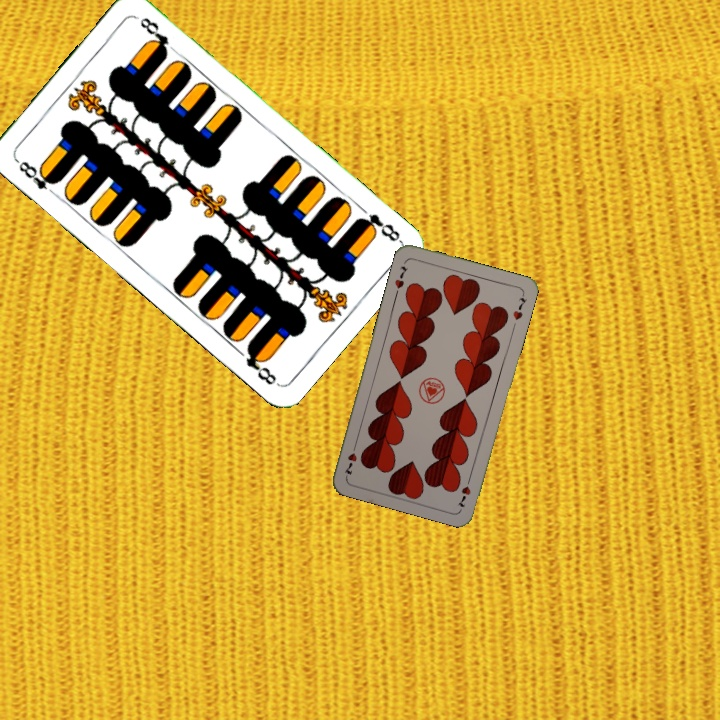E8: (12, 155, 63, 199), (352, 209, 403, 245)
H7: (453, 472, 474, 510), (391, 262, 410, 291)
